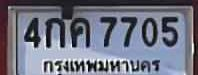0: (141, 16, 157, 46)
4: (23, 16, 40, 47)
5: (161, 16, 177, 46)
7: (99, 16, 116, 46), (120, 16, 136, 46)
A01: (44, 17, 64, 47)
A04: (70, 17, 90, 47)
BKK: (39, 55, 162, 75)
